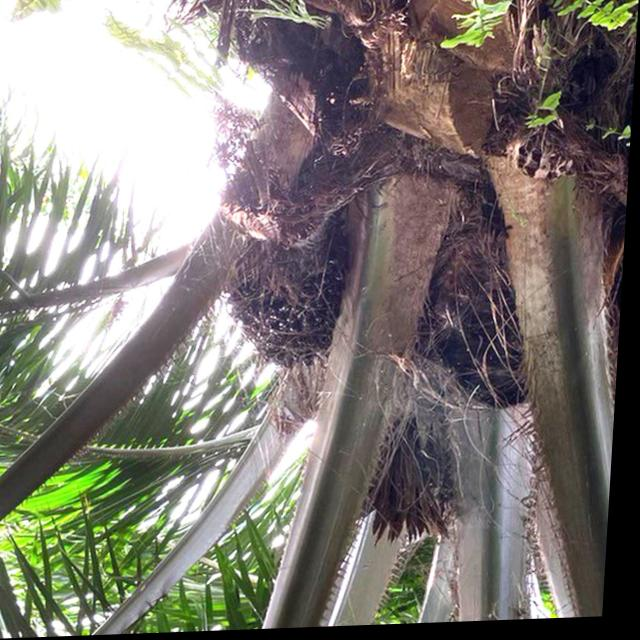unripe: (214, 203, 360, 387)
